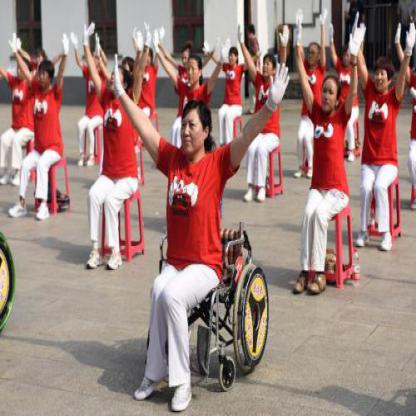wheelchair: (113, 81, 270, 397)
